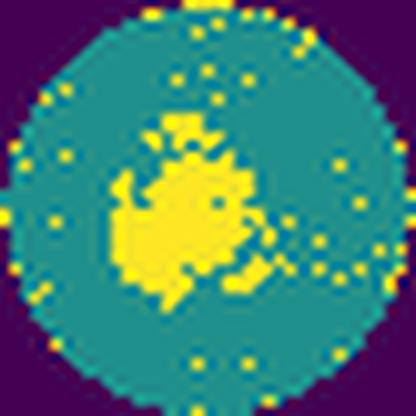Center: (109, 112, 283, 321)
